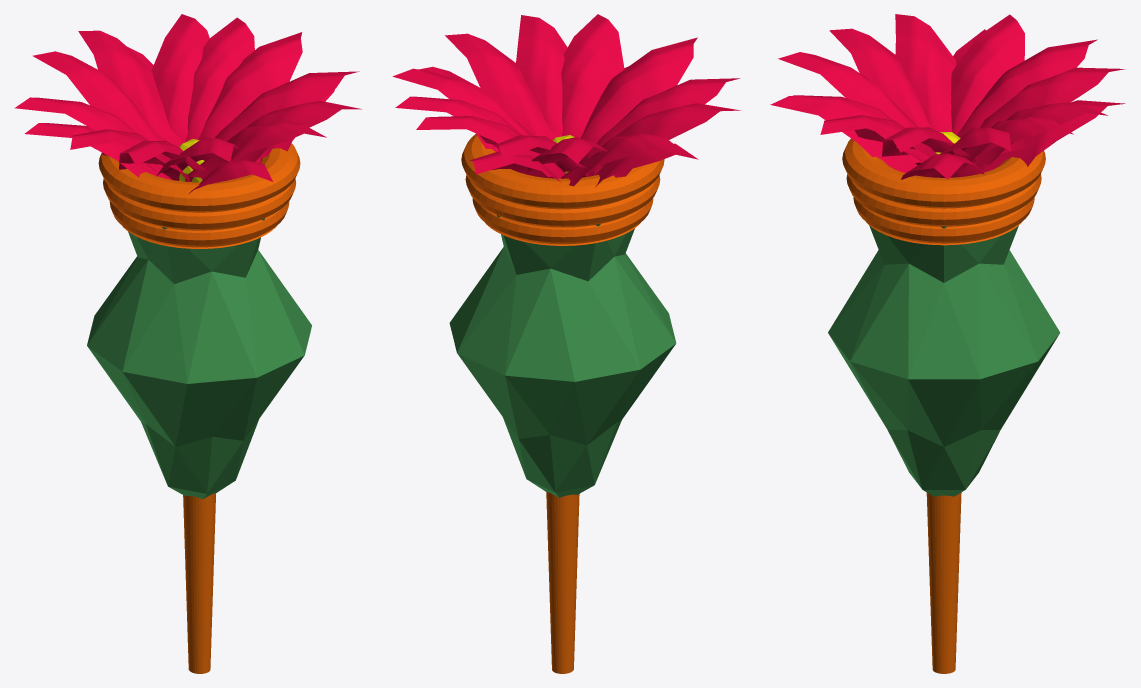
Rendered from Tree_3.fbx.
3 views of the same model, side by side, from view 1: azimuth 30°, elevation 25°; view 2: azimuth 150°, elevation 25°; view 3: azimuth 270°, elevation 25° (orthographic).
Visible parts, largest first — view 1: Icosphere, Leaves, Torus.002, Cilindro; view 2: Icosphere, Leaves, Torus.002, Cilindro; view 3: Icosphere, Leaves, Torus.002, Cilindro.
Boxes of the visible parts, <box> form: Icosphere: <box>87,218,311,498</box>; Leaves: <box>14,14,361,194</box>; Torus.002: <box>98,143,300,248</box>; Cilindro: <box>183,493,215,673</box>; Icosphere: <box>449,215,676,497</box>; Leaves: <box>392,14,740,187</box>; Torus.002: <box>461,134,664,245</box>; Cilindro: <box>546,492,579,673</box>; Icosphere: <box>828,225,1060,496</box>; Leaves: <box>770,14,1125,179</box>; Torus.002: <box>842,138,1045,245</box>; Cilindro: <box>926,492,961,673</box>.
Bounding box in the file's own units: 1401 × 2553 × 1403.
